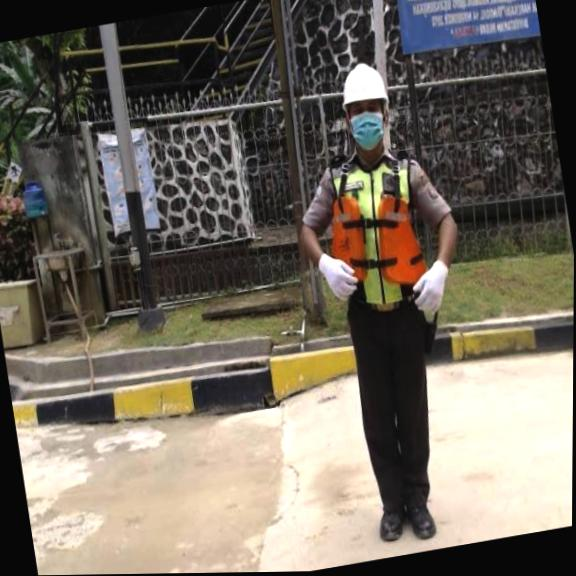safety_vest: (322, 182, 430, 292)
